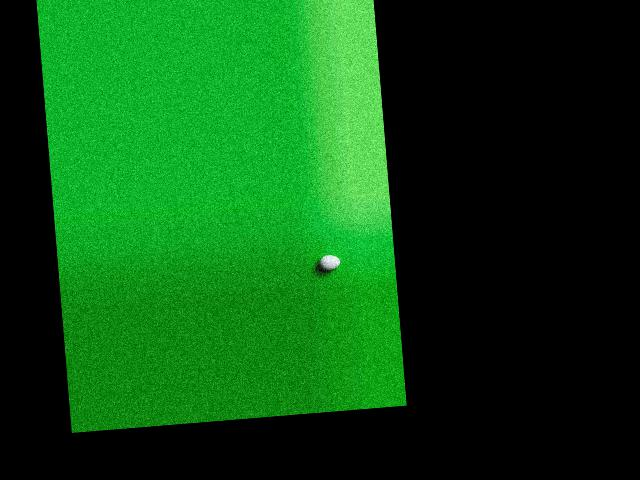egg: (318, 254, 340, 270)
